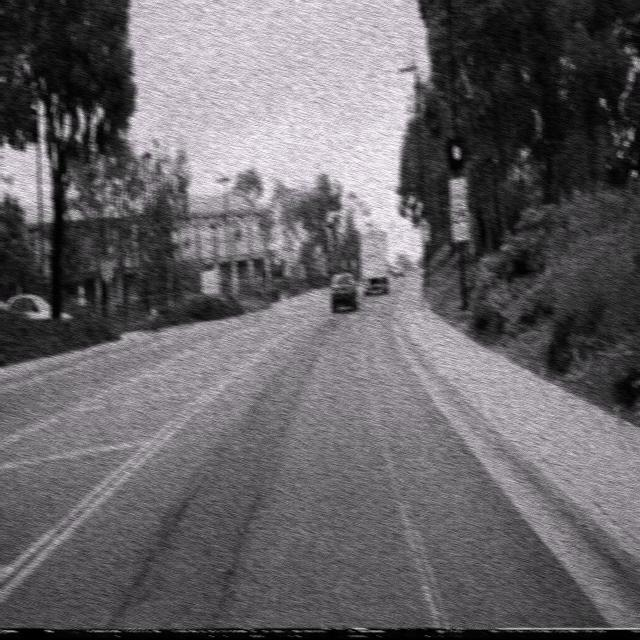speedLimit25: (448, 176, 468, 242)
